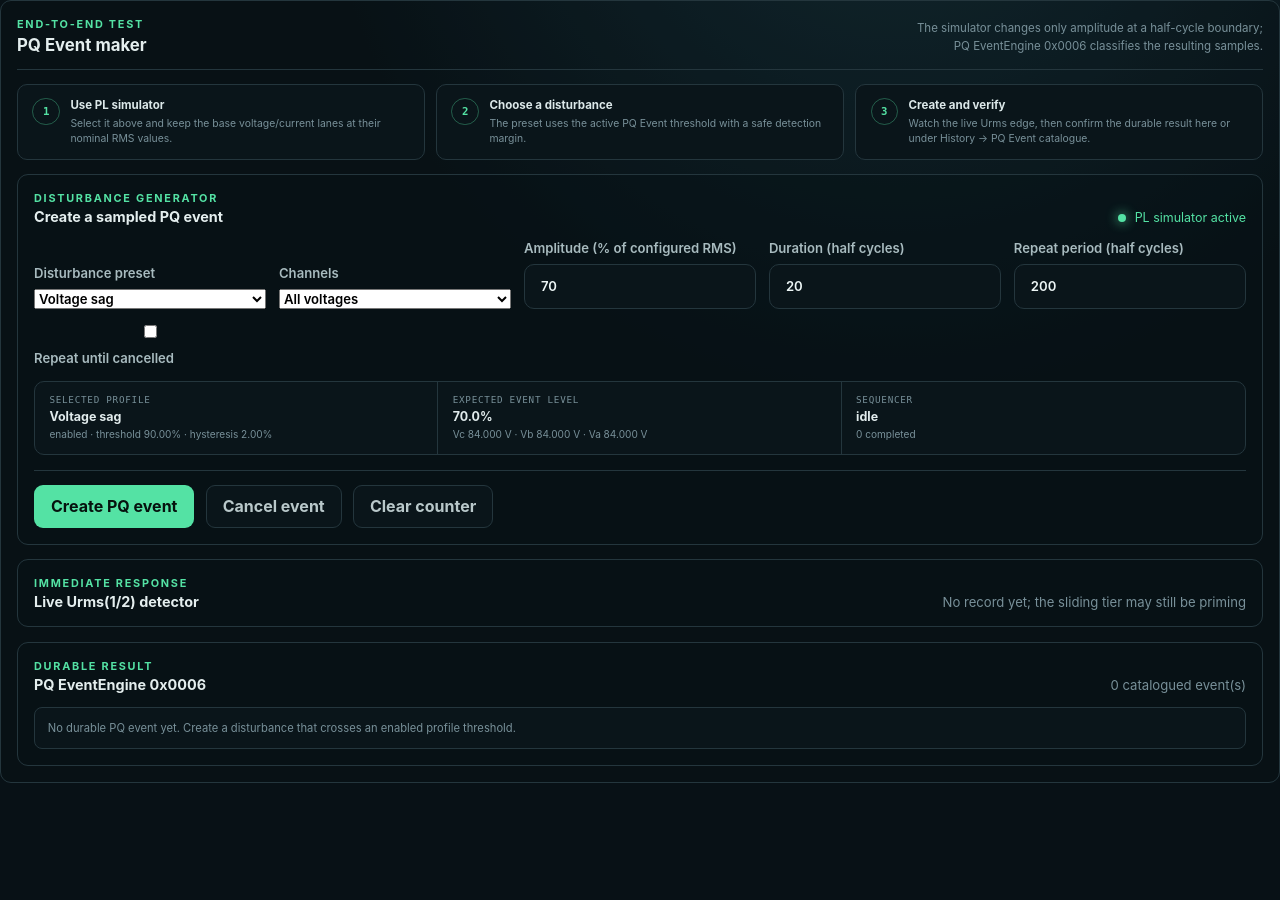
ADC simulator PQ Event maker › turns a named interruption into one half-cycle-aligned simulator command
This screenshot has width=1280, height=900.
Expected: the text "PL simulator active" is shown, top-left (1118, 210), bottom-right (1246, 225)
Select "Voltage interruption" in the dropdown labelled "Disturbance preset". click: (150, 299)
box: top-left (34, 289), bottom-right (266, 309)
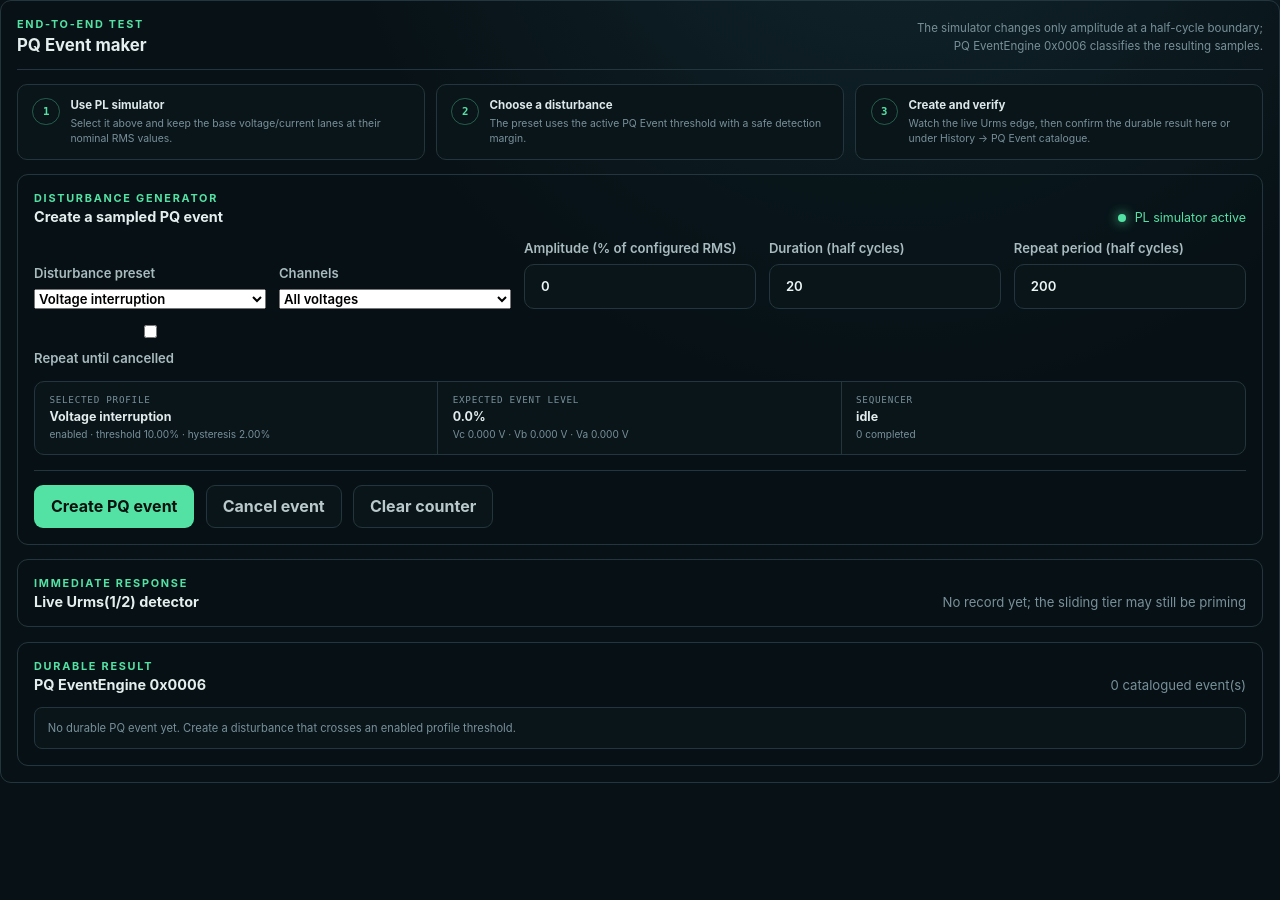
Expected: the dropdown labelled "Channels" shows "All voltages", top-left (279, 289), bottom-right (511, 309)
Expected: the number field labelled "Amplitude (% of configured RMS)" holds "0", top-left (524, 264), bottom-right (756, 309)
Expected: the text "Vc 0.000 V · Vb 0.000 V · Va 0.000 V" is shown, top-left (453, 428), bottom-right (629, 440)
Click the button "Create PQ event". click: (114, 506)
box: top-left (34, 485), bottom-right (194, 528)
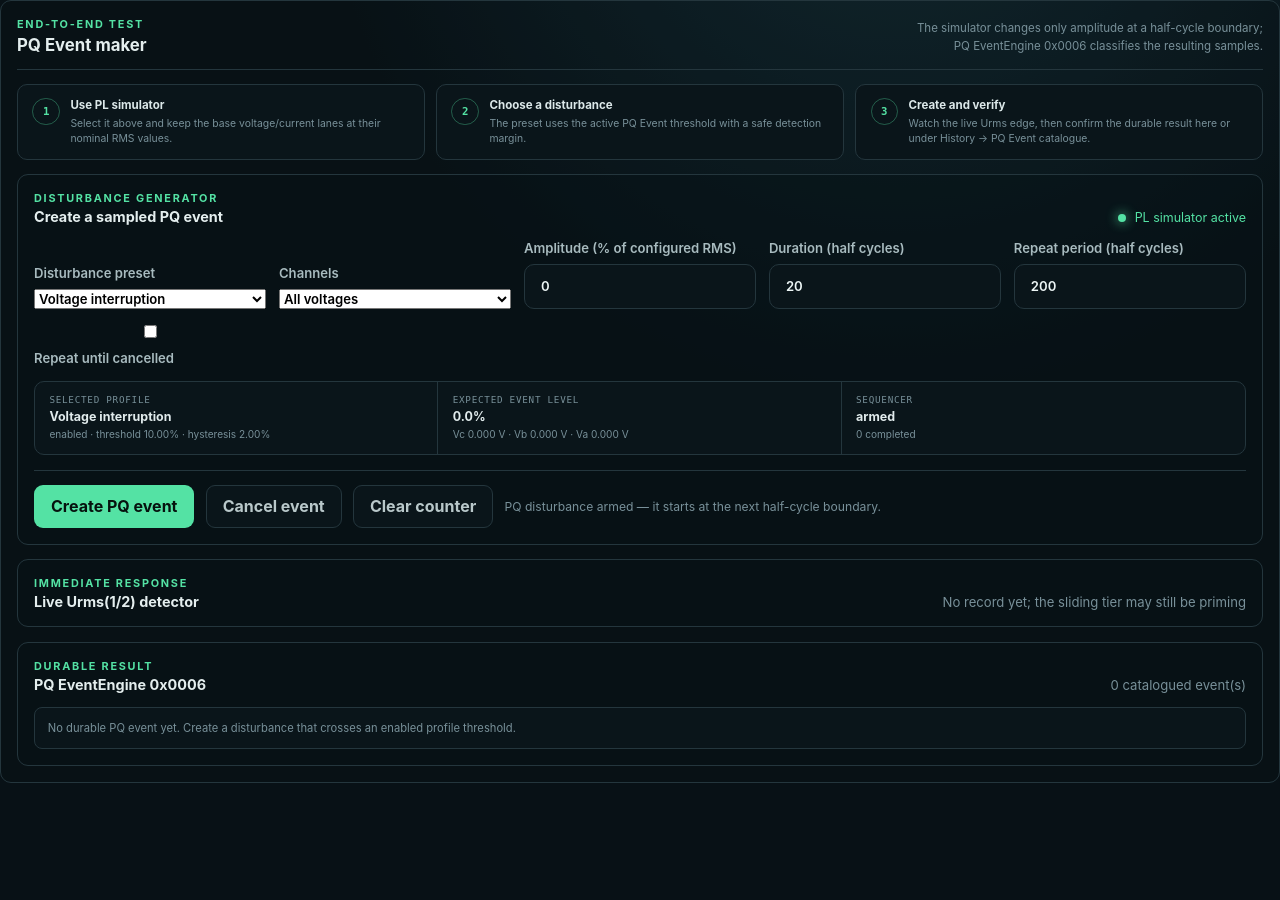
Expected: the text "starts at the next half-cycle boundary" is shown, top-left (504, 499), bottom-right (881, 514)
